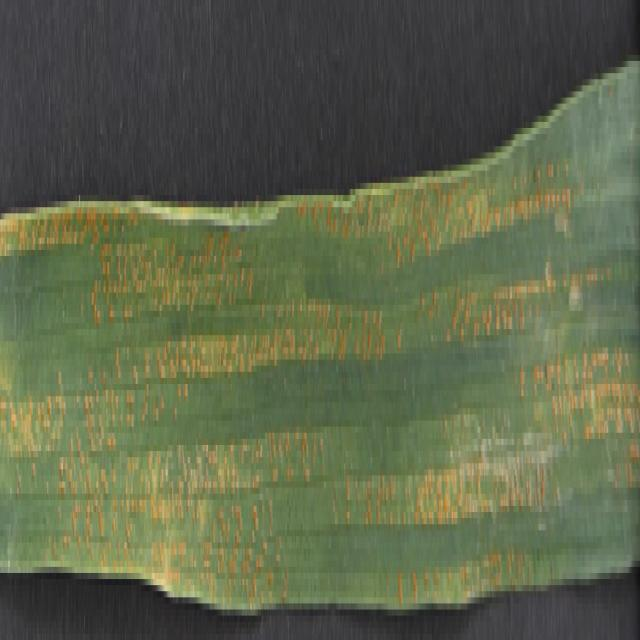leaf rust: (0, 146, 640, 566)
